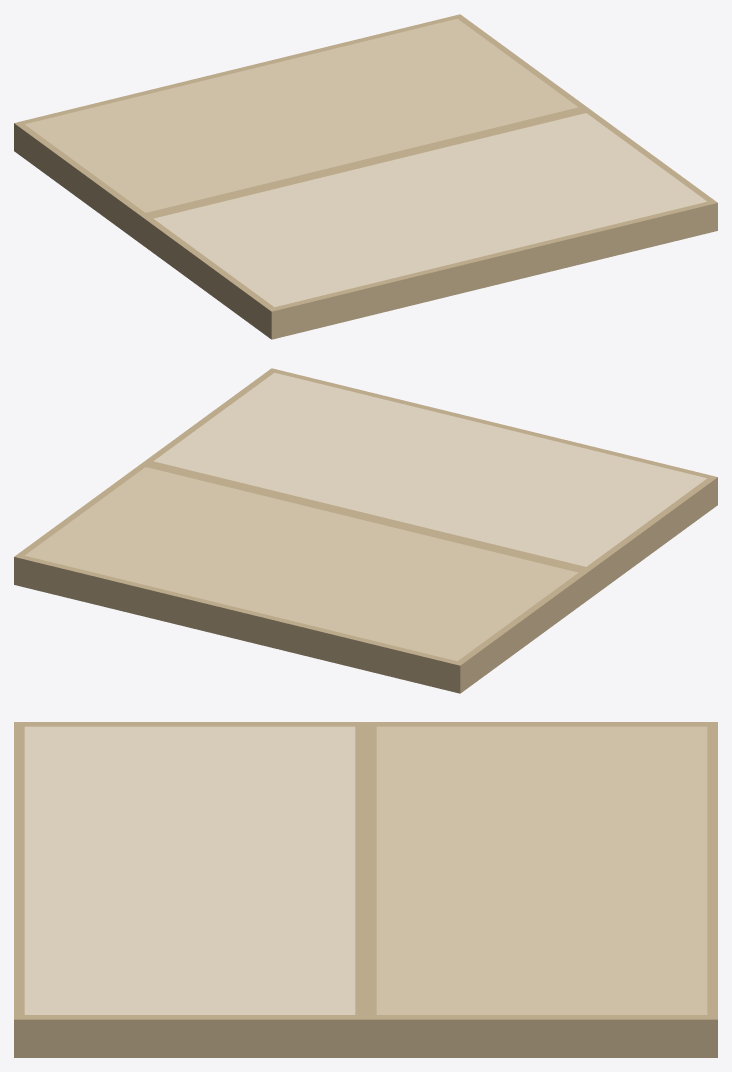
The model's file is paving_tile_a.glb.
3 renders of one model, top to bottom at view 1: azimuth 30°, elevation 25°; view 2: azimuth 150°, elevation 25°; view 3: azimuth 270°, elevation 25°, orthographic. The views are drawn at different scales.
Parts seen in each view (by area): view 1: paving_tile_a; view 2: paving_tile_a; view 3: paving_tile_a.
Boxes of the visible parts, x1,y1,x2,y2 form: paving_tile_a: [14, 14, 717, 339]; paving_tile_a: [14, 368, 717, 693]; paving_tile_a: [14, 722, 717, 1057].
Size of the model in its own units: 1 by 0.06 by 1.
